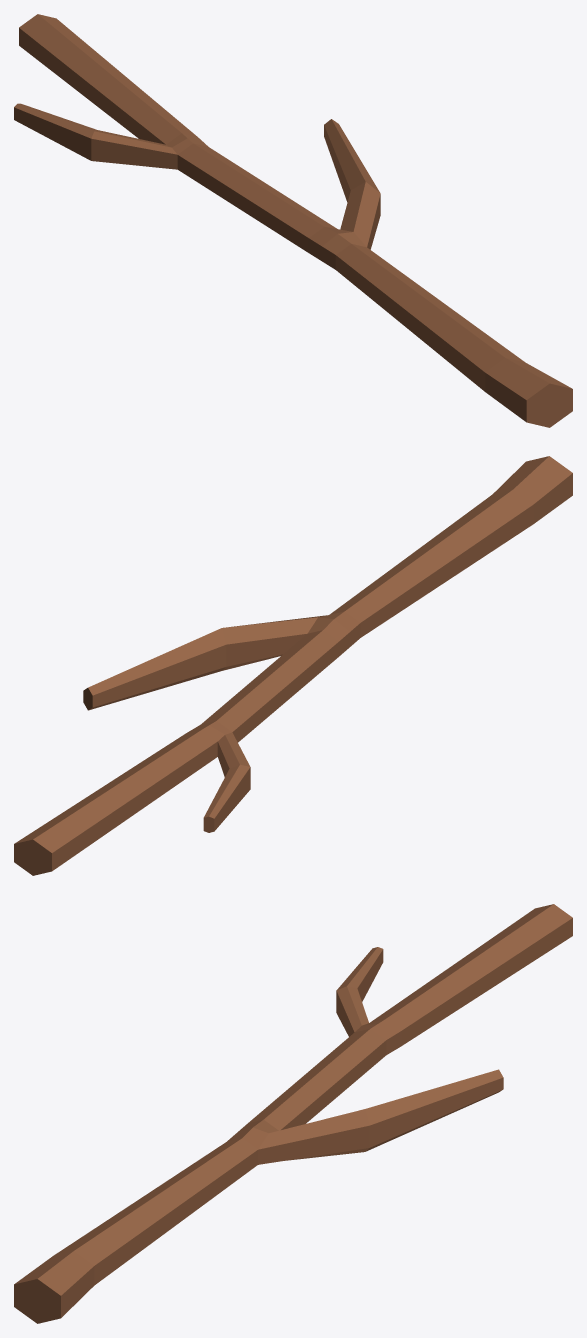
The model's file is branch.fbx.
3 renders of one model, top to bottom at view 1: azimuth 30°, elevation 25°; view 2: azimuth 150°, elevation 25°; view 3: azimuth 330°, elevation 25°, orthographic.
Parts seen in each view (by area): view 1: Circle; view 2: Circle; view 3: Circle.
Boxes of the visible parts, x1,y1,x2,y2 form: Circle: (14,14,572,427); Circle: (14,456,572,875); Circle: (14,904,572,1323).
Size of the model in its own units: 7.82 by 1.46 by 30.47.
